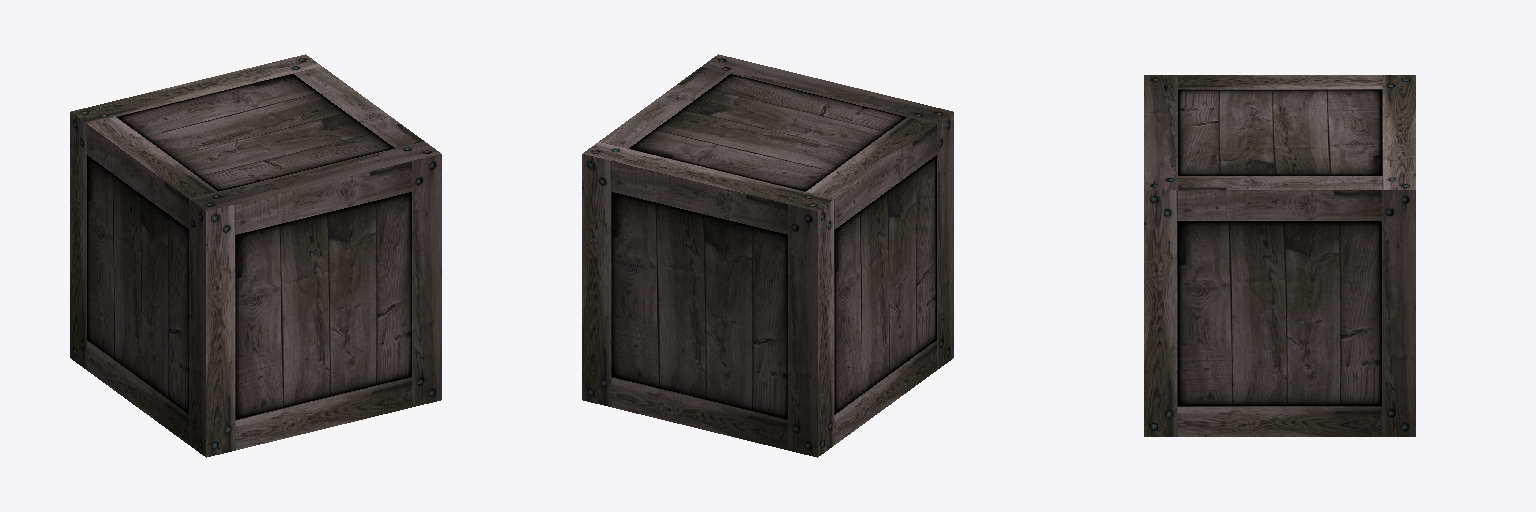
3 views of the same model, side by side, from view 1: azimuth 30°, elevation 25°; view 2: azimuth 150°, elevation 25°; view 3: azimuth 270°, elevation 25° (orthographic).
Visible parts, largest first — view 1: Cube_Cube.001; view 2: Cube_Cube.001; view 3: Cube_Cube.001.
Boxes of the visible parts, <box> form: Cube_Cube.001: <box>70,54,441,457</box>; Cube_Cube.001: <box>582,54,953,457</box>; Cube_Cube.001: <box>1144,75,1415,436</box>.
Bounding box in the file's own units: 2 × 2 × 2.
Materials: 1 (1 with a texture image).